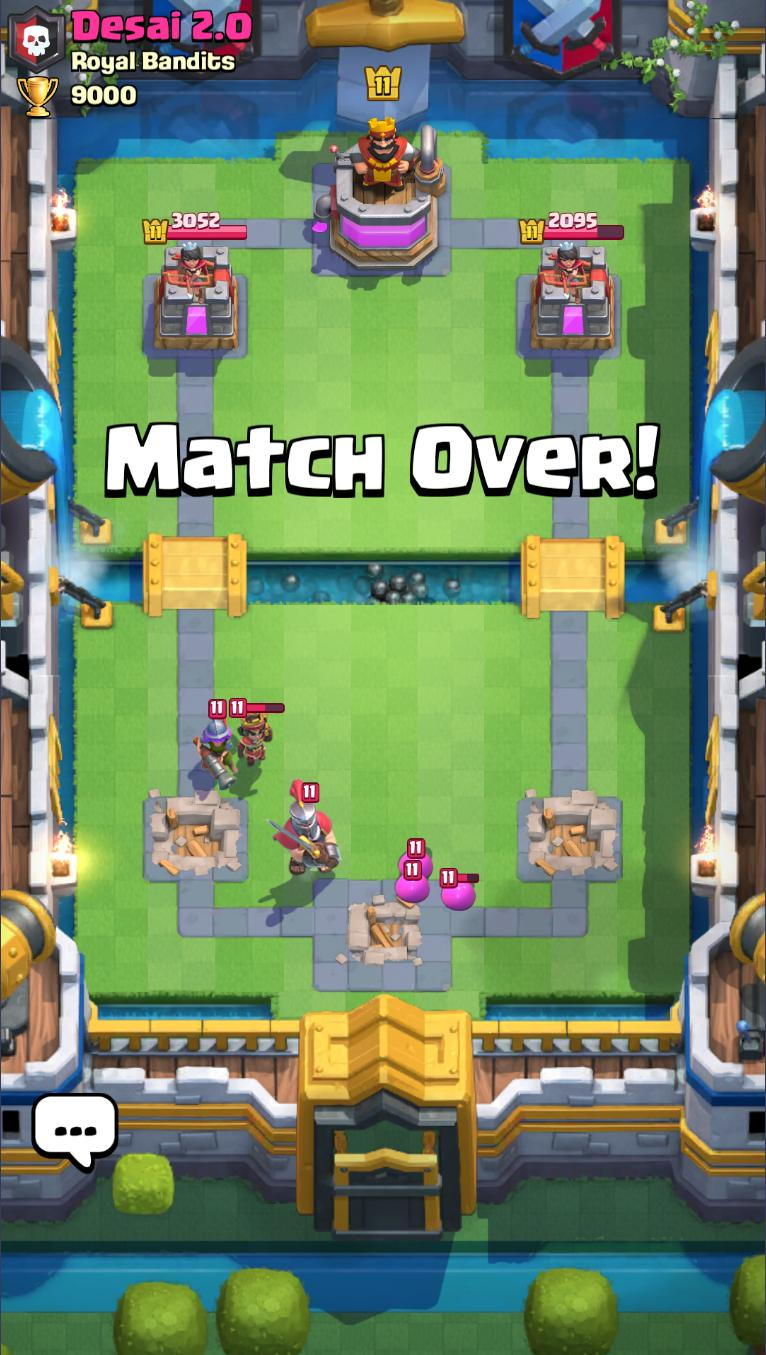ElixirGolemMicro: (439, 868, 480, 916), (394, 861, 431, 909), (399, 839, 435, 881)
EnemyTower: (528, 228, 625, 346), (149, 244, 244, 362)
KingTower: (313, 115, 456, 286)
LittlePrince: (223, 699, 284, 773)
LittlePrinceGuard: (265, 779, 341, 884)
MatchOver: (104, 422, 662, 502)
Musketeer: (187, 700, 244, 794)
MyKingTowerBrocken: (309, 872, 452, 993)
MyPrincessTowerBrocken: (513, 790, 628, 889), (137, 791, 251, 886)
PrincessTower: (540, 241, 595, 303), (163, 241, 218, 301)
TowerPrincessHP: (515, 210, 629, 247), (140, 210, 252, 247)
